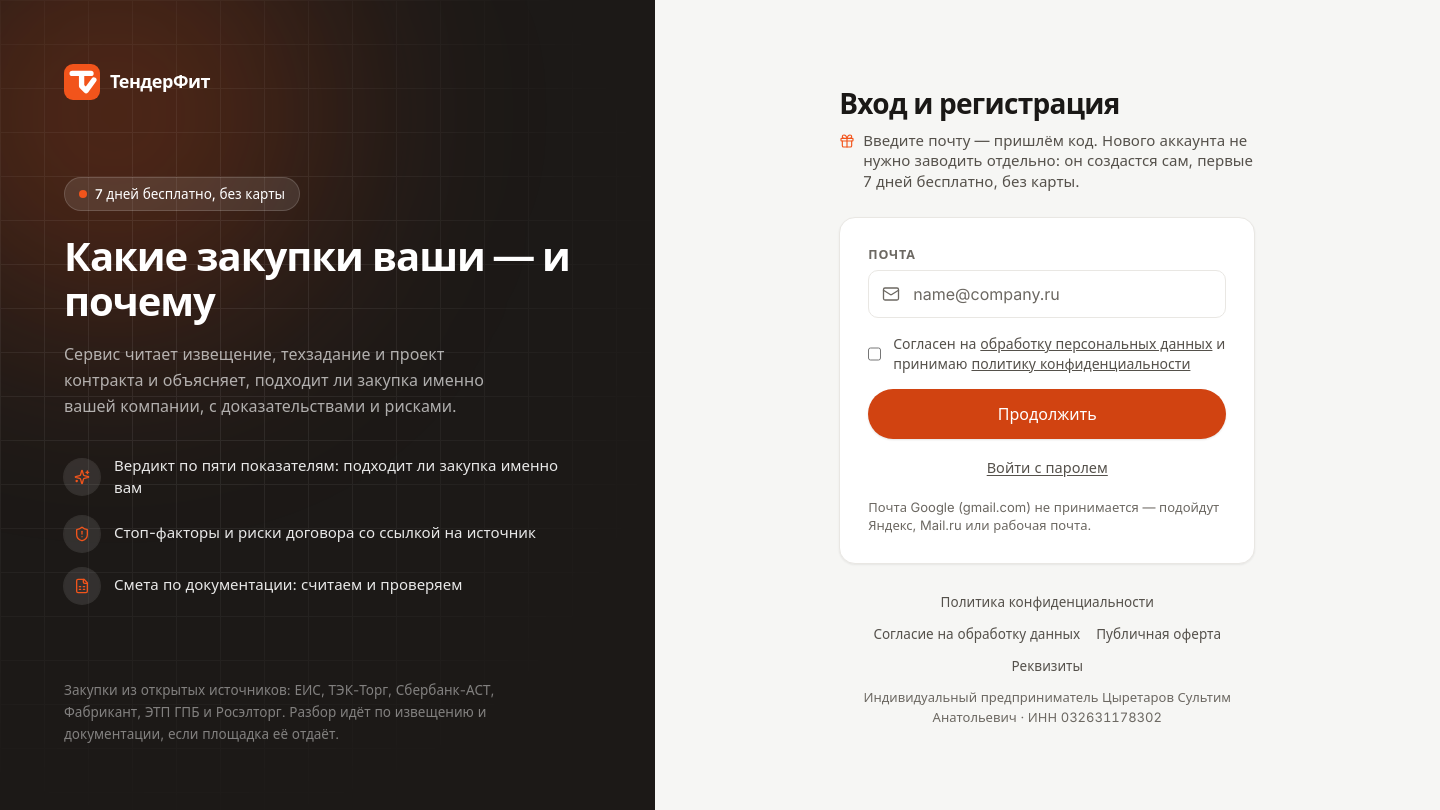
Test case: LoginPage — почта и код (основной путь) › неверная почта ловится до отправки: одно сообщение, поле подсвечено
Type "не-почта" into the field labelled "Почта".
click(1047, 294); type("не-почта")  # box x1=868 y1=270 x2=1226 y2=318
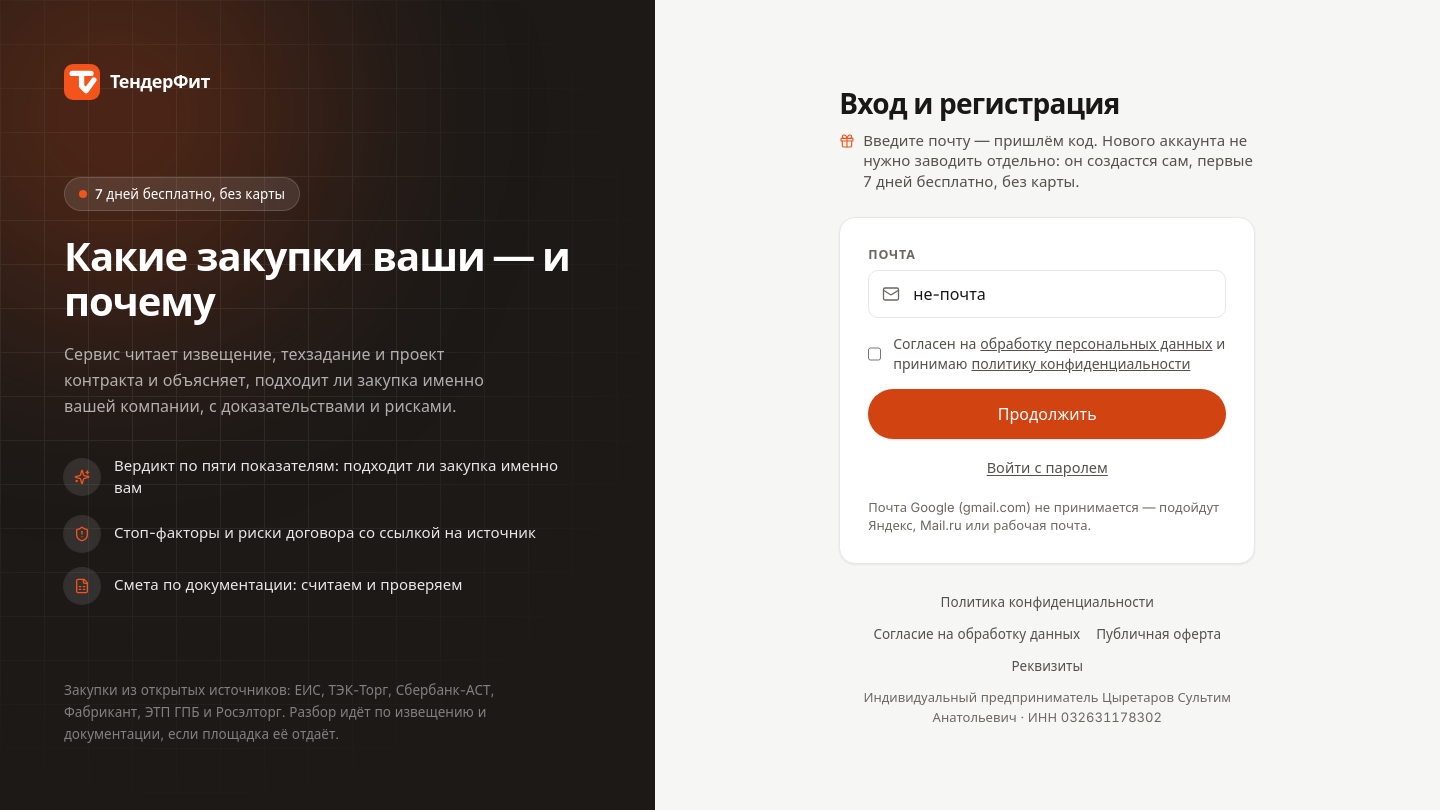
Click the button "Продолжить".
click(1047, 414)  # box x1=868 y1=389 x2=1226 y2=439
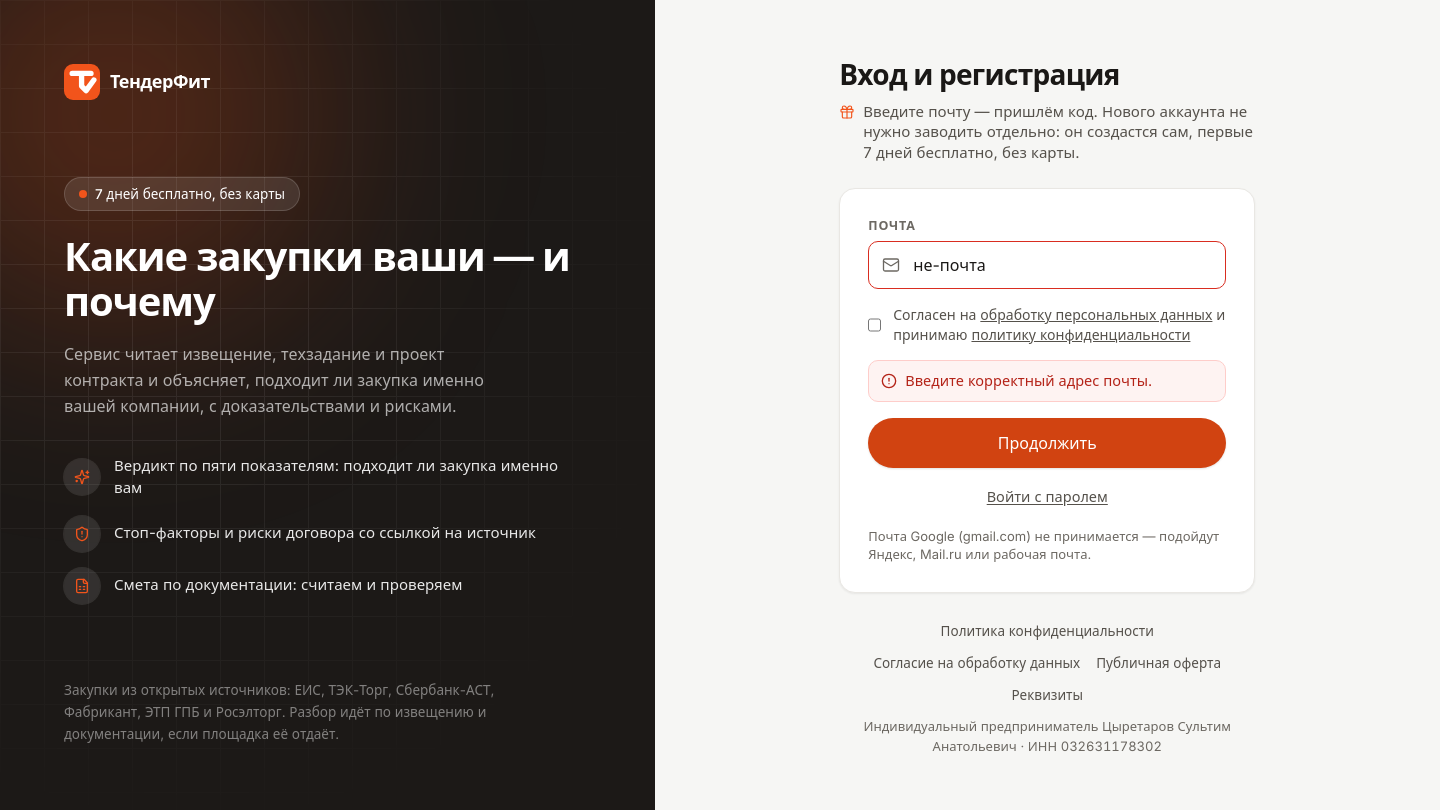
Expected: the number of messages is 1, x1=868 y1=360 x2=1226 y2=402
